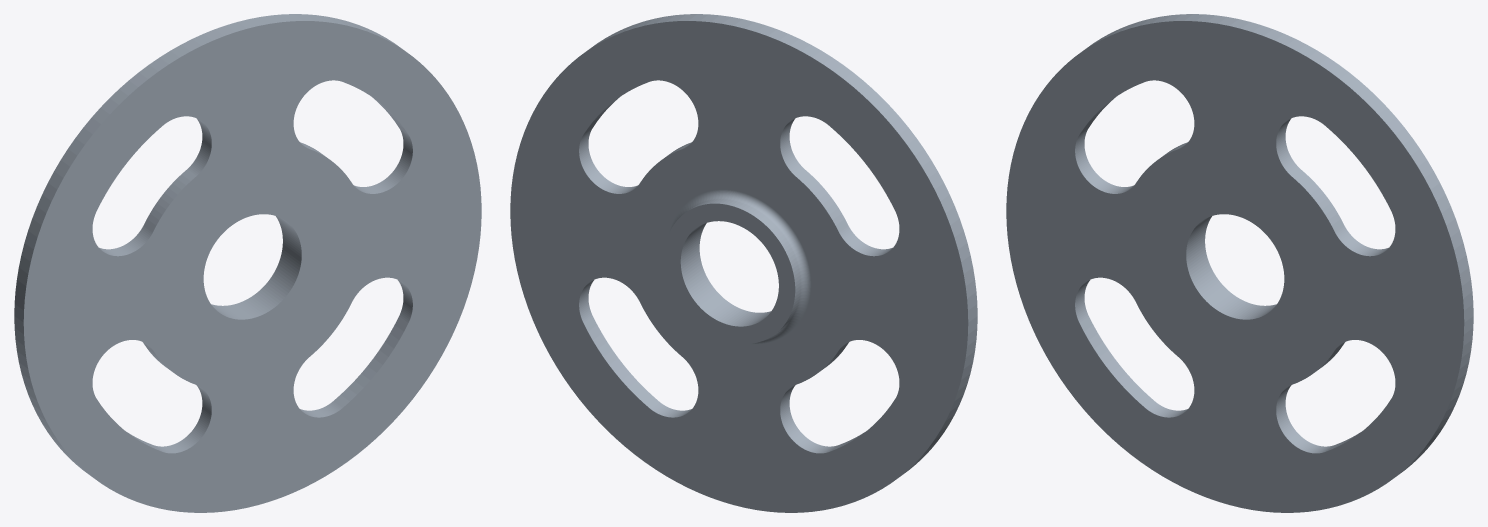
The model's file is reference.glb.
3 views of the same model, side by side, from view 1: azimuth 30°, elevation 25°; view 2: azimuth 150°, elevation 25°; view 3: azimuth 330°, elevation 25° (orthographic).
Visible parts, largest first — view 1: reference.tmp.stl; view 2: reference.tmp.stl; view 3: reference.tmp.stl.
Boxes of the visible parts, <box> form: reference.tmp.stl: <box>14,14,481,512</box>; reference.tmp.stl: <box>510,14,977,512</box>; reference.tmp.stl: <box>1006,14,1473,512</box>.
Bounding box in the file's own units: 140 × 140 × 10.
